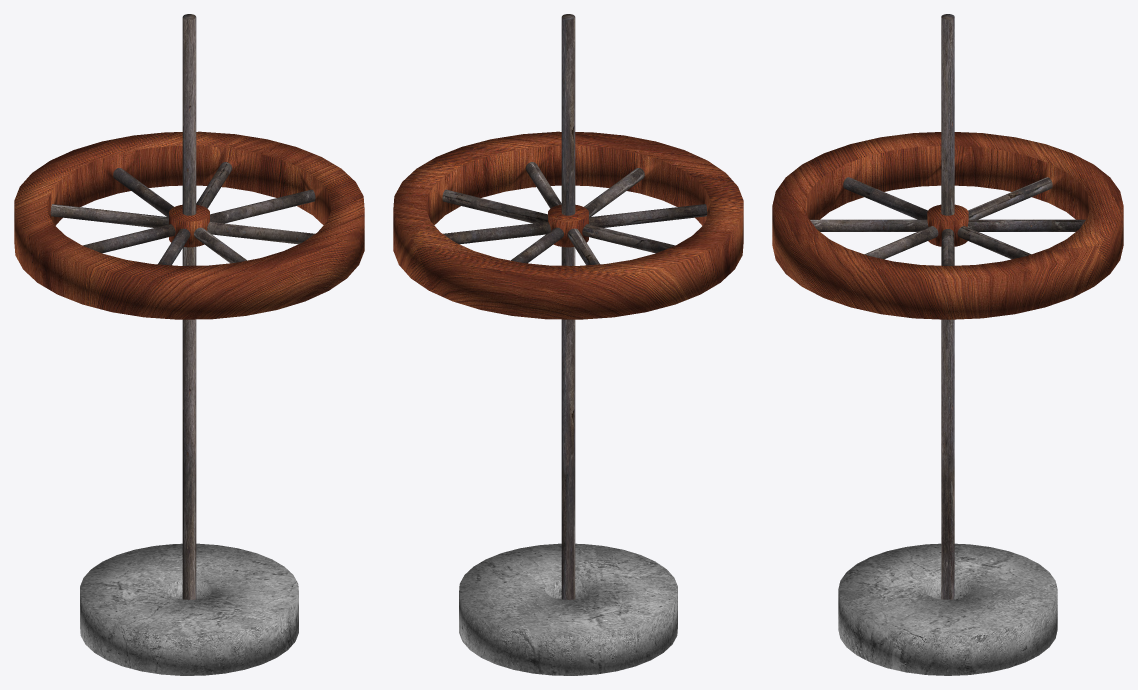
Rendered from mlinica.glb.
3 renders of one model, left to right at view 1: azimuth 30°, elevation 25°; view 2: azimuth 150°, elevation 25°; view 3: azimuth 270°, elevation 25°, orthographic.
Visible parts, largest first — view 1: flywheel.004, Millstone, Os; view 2: flywheel.004, Millstone, Os; view 3: flywheel.004, Millstone, Os.
Part boxes in pixels (x1=…): flywheel.004: x1=14, y1=131, x2=364, y2=319; Millstone: x1=80, y1=543, x2=298, y2=675; Os: x1=182, y1=14, x2=196, y2=599; flywheel.004: x1=393, y1=131, x2=743, y2=319; Millstone: x1=459, y1=543, x2=677, y2=675; Os: x1=561, y1=14, x2=575, y2=599; flywheel.004: x1=772, y1=132, x2=1123, y2=319; Millstone: x1=838, y1=543, x2=1057, y2=675; Os: x1=941, y1=14, x2=954, y2=599.
Size of the model in its own units: 16 by 30.8 by 16.
Materials: 3 (3 with a texture image).
